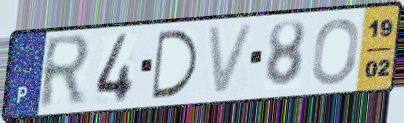4: (93, 30, 135, 104)
8: (262, 19, 308, 92)
D: (149, 28, 201, 102)
O: (309, 16, 362, 87)
R: (36, 31, 95, 114)
V: (205, 20, 258, 98)
